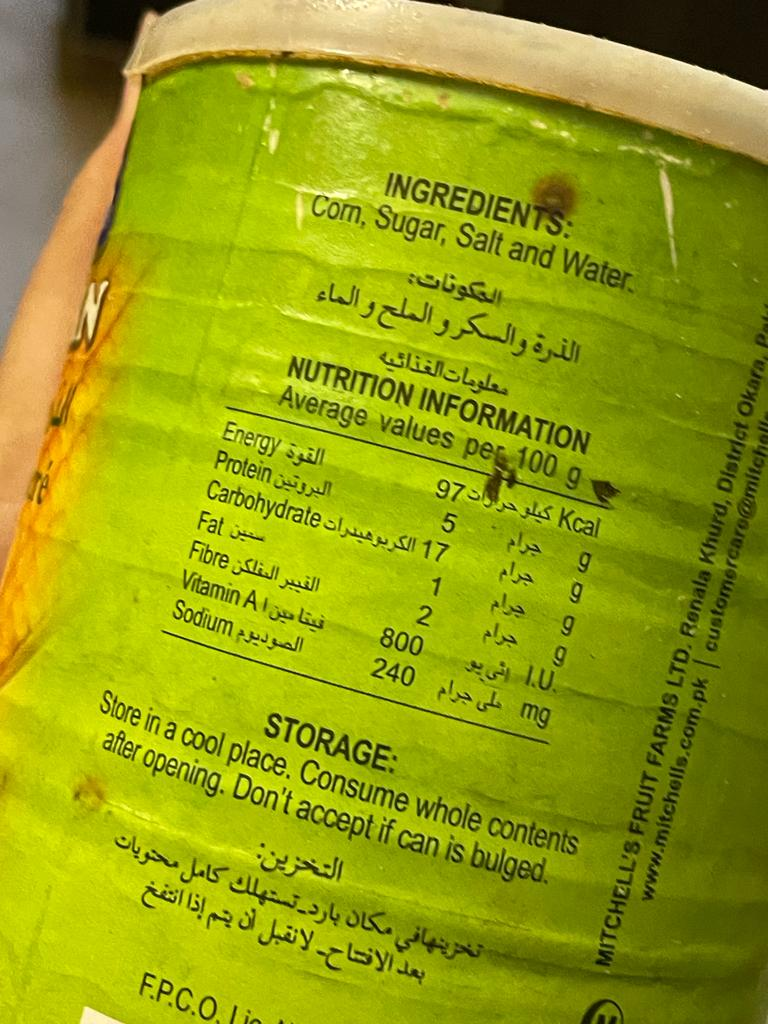table: (159, 401, 609, 752)
